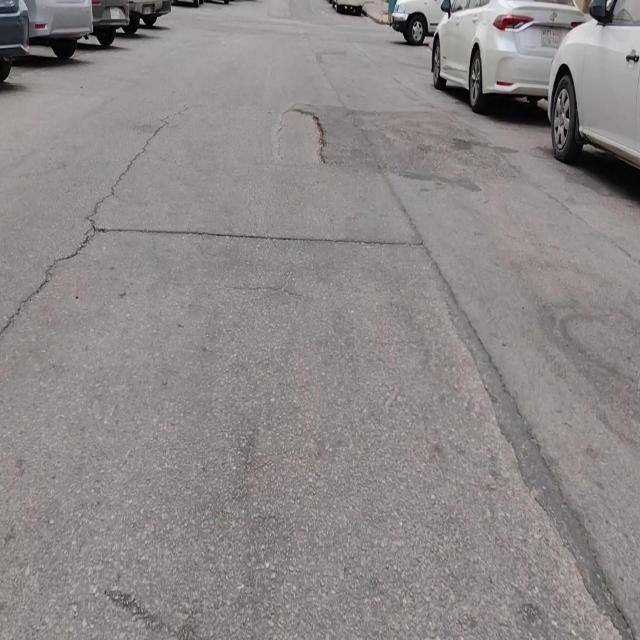pothole: (274, 106, 326, 166)
